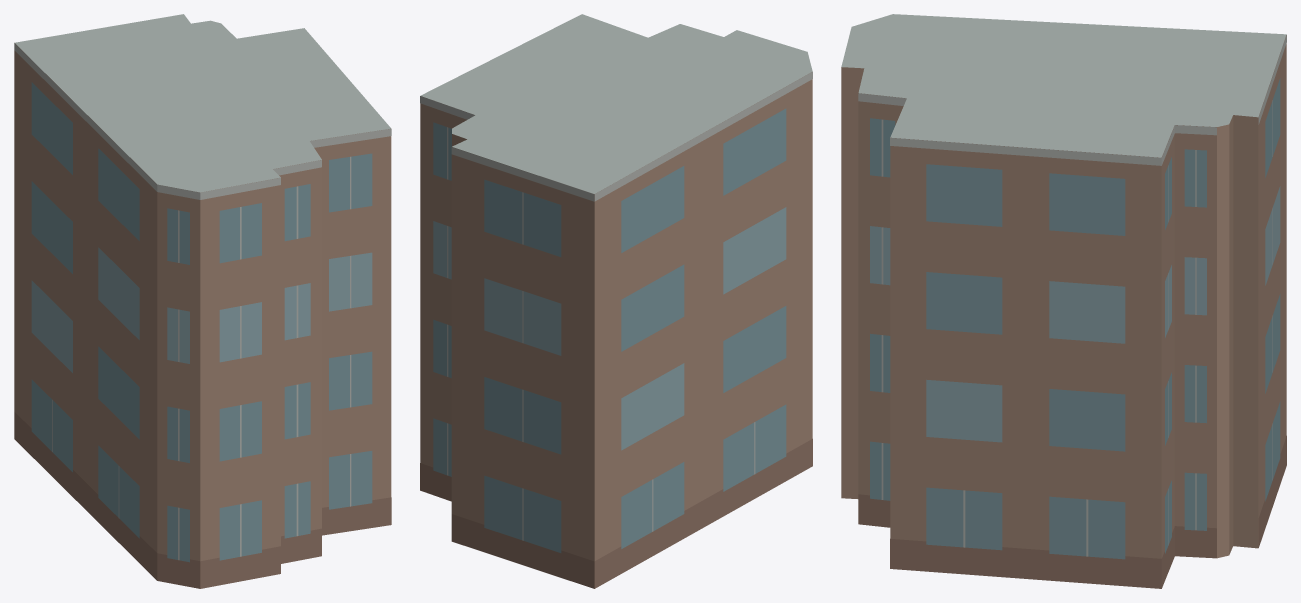
Rendered from survey-upis-32549117.glb.
The picture shows the model from 3 angles, left to right: view 1: azimuth 30°, elevation 25°; view 2: azimuth 150°, elevation 25°; view 3: azimuth 270°, elevation 25°; orthographic projection. The views are drawn at different scales.
Visible parts, largest first — view 1: survey-upis-32549117.tmp; view 2: survey-upis-32549117.tmp; view 3: survey-upis-32549117.tmp.
Boxes of the visible parts, x1,y1,x2,y2 form: survey-upis-32549117.tmp: (14,14,391,588); survey-upis-32549117.tmp: (420,14,812,588); survey-upis-32549117.tmp: (841,14,1286,588).
Size of the model in its own units: 9.16 by 12.8 by 11.99.
